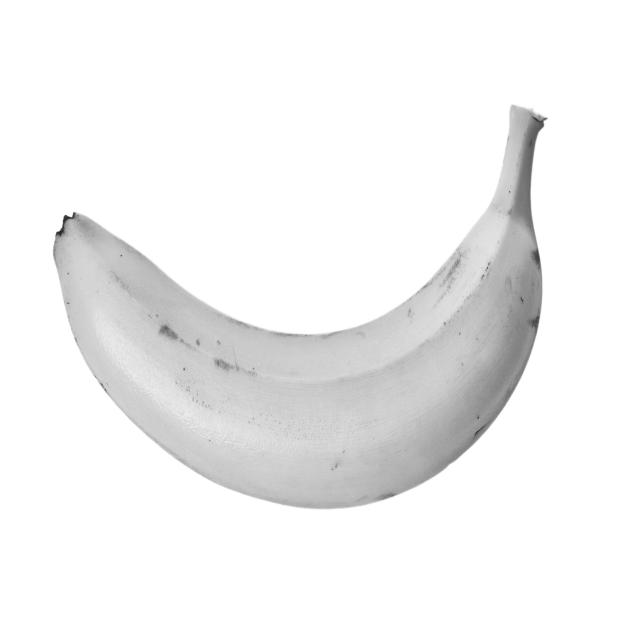Ripe: (35, 72, 574, 538)
